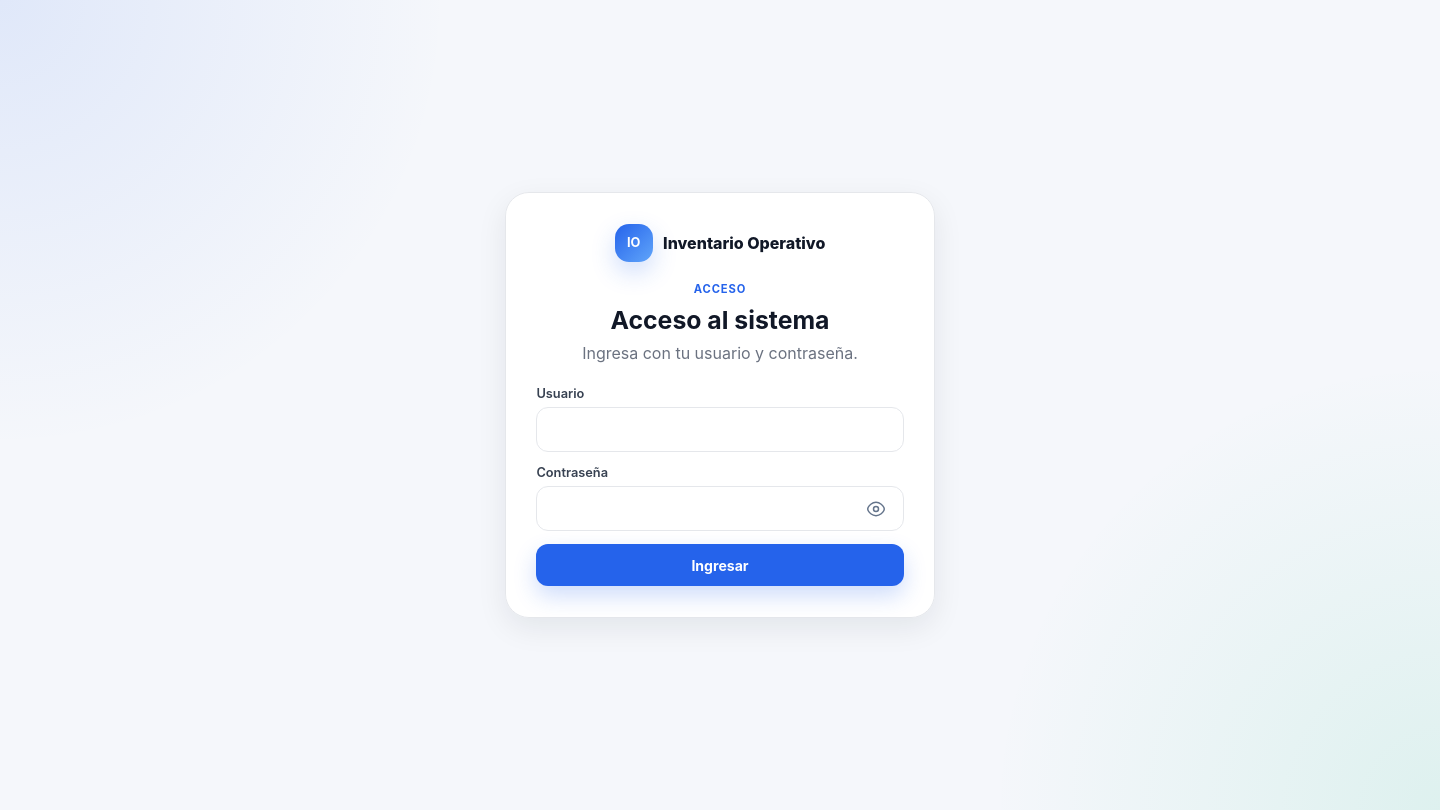
Test case: AuthScreen › muestra el error real cuando las credenciales son rechazadas
Step 1. Type "usuario" into the field labelled "Usuario" → coordinates (720, 430), box [536,407,904,452]
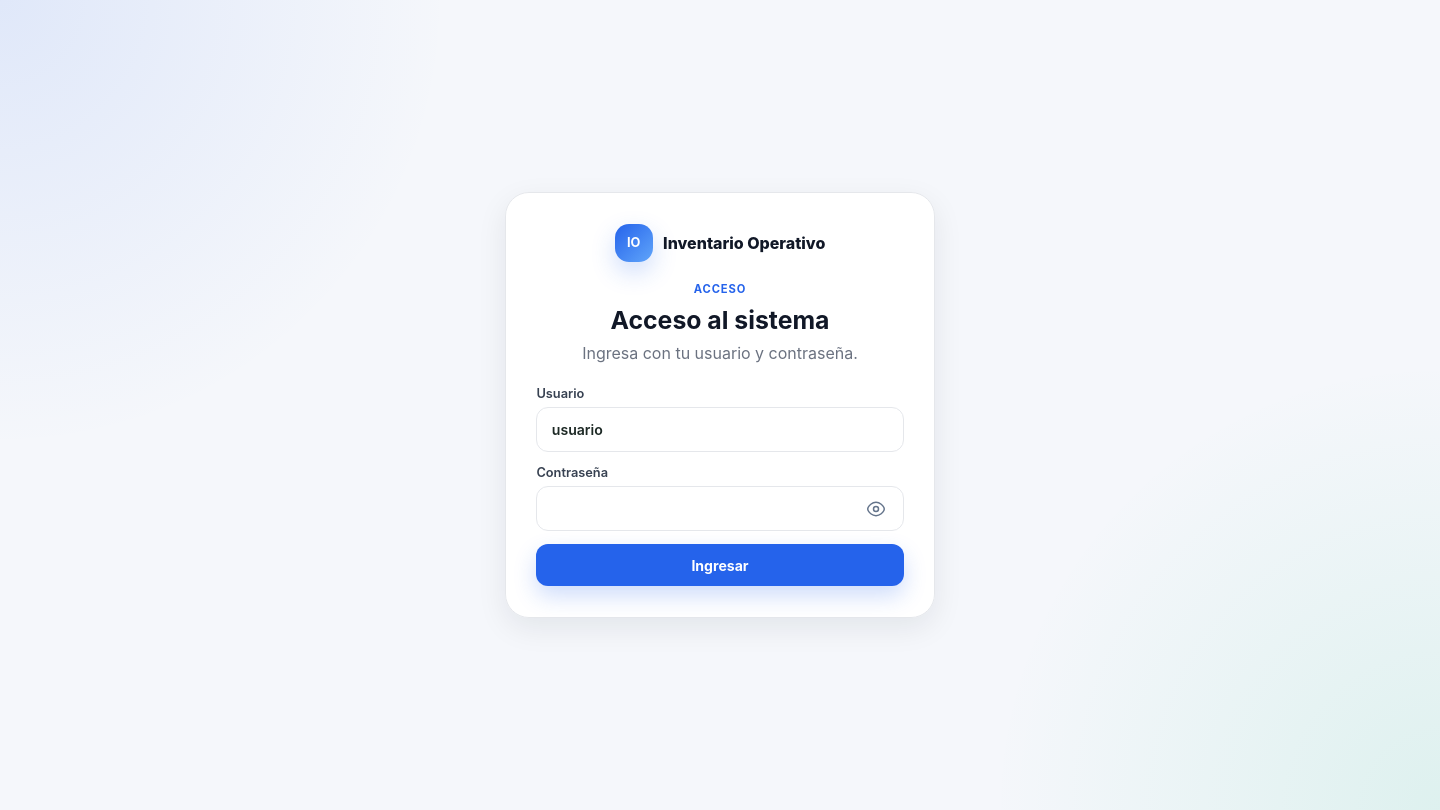
Step 2. Type "clave" into the password field labelled "Contraseña" → coordinates (720, 509), box [536,486,904,531]
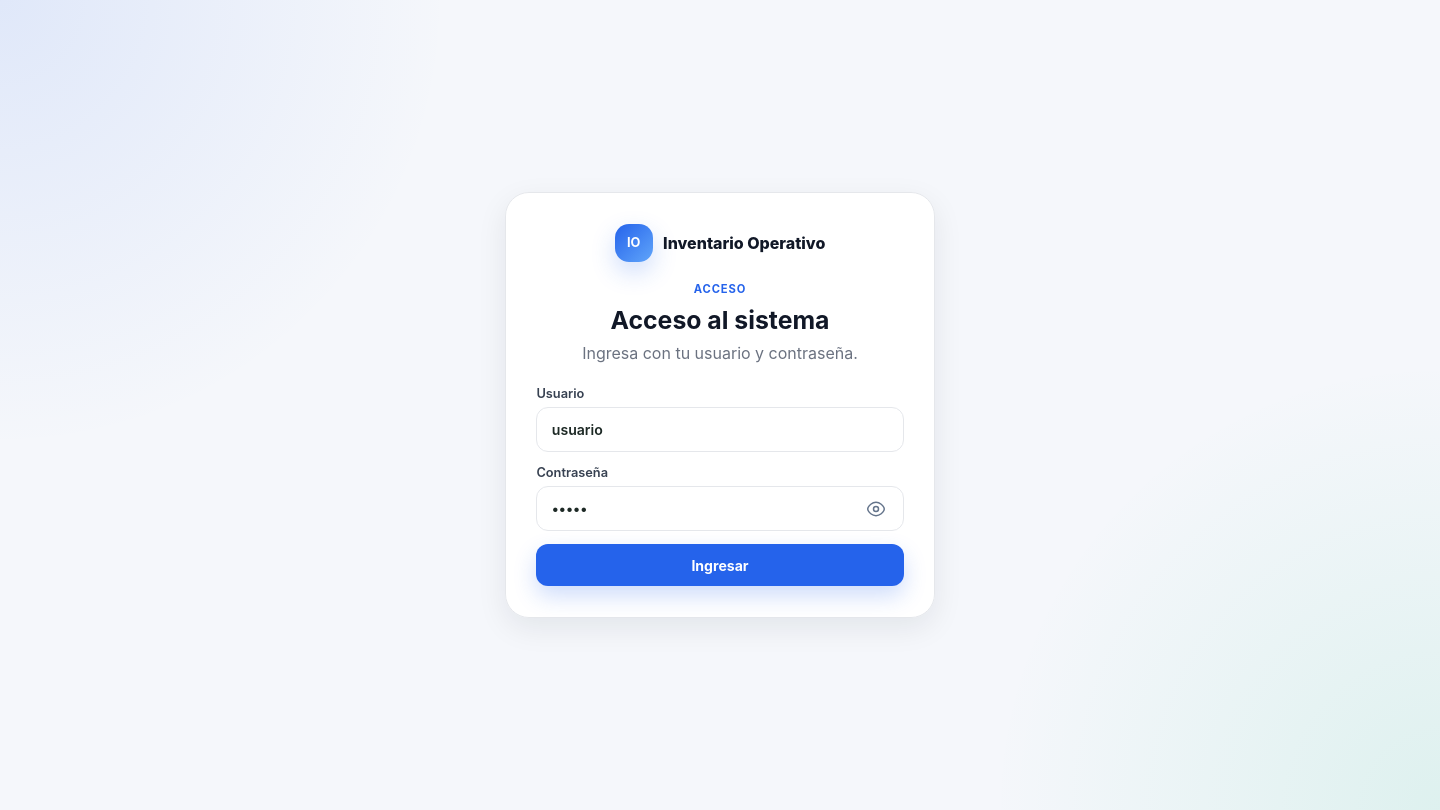
Step 3. Click the button "Ingresar" → coordinates (720, 566), box [536,544,904,586]
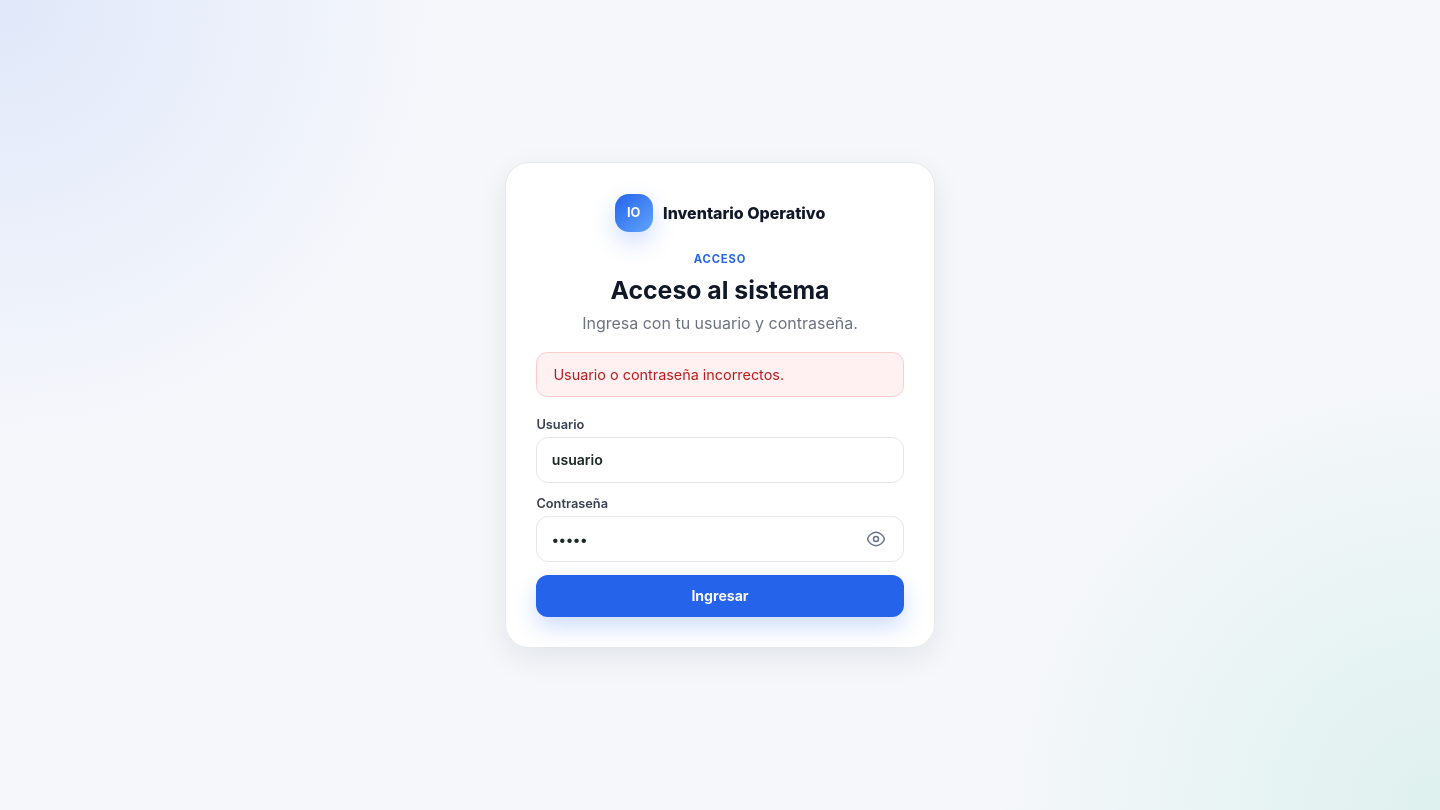
Expected: the message reads "Usuario o contraseña incorrectos.", [553,366,784,383]
